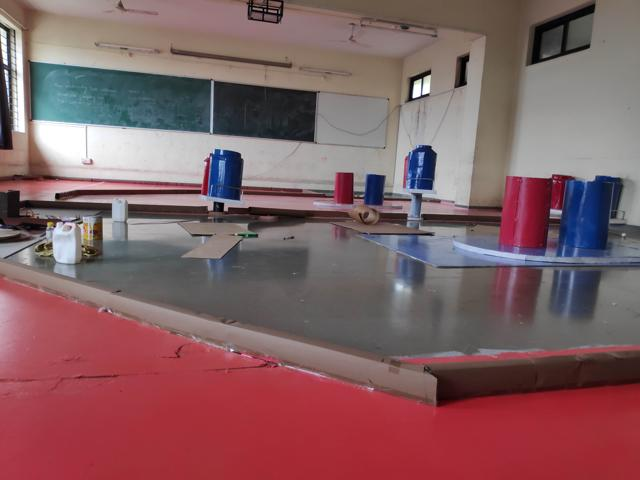Blue: (558, 181, 614, 249), (207, 152, 245, 198), (403, 143, 438, 188), (363, 174, 386, 204)
Red: (498, 180, 554, 248), (335, 172, 353, 204)
